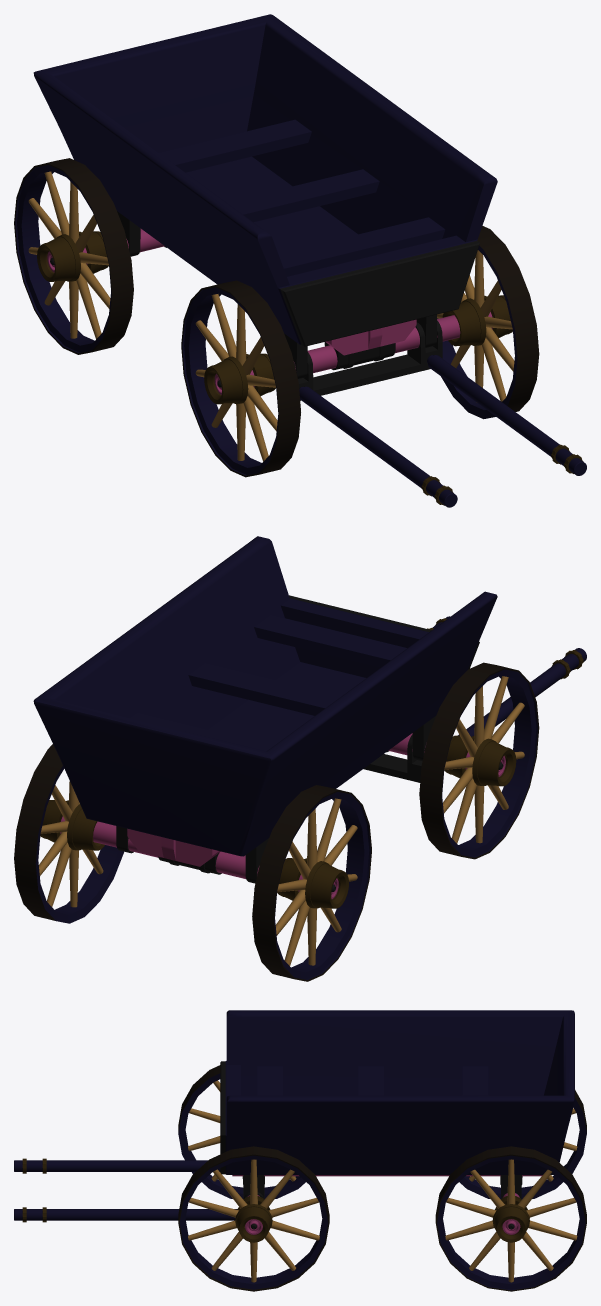
The model's file is Wagon.obj.
3 renders of one model, top to bottom at view 1: azimuth 30°, elevation 25°; view 2: azimuth 150°, elevation 25°; view 3: azimuth 270°, elevation 25°, orthographic. The views are drawn at different scales.
Parts seen in each view (by area): view 1: Cab Wagon, Wagon Back_Right_Wheel Wheels, Wagon Wheels Front_Right_Wheel, Wagon Wheels Front_Left_Wheel, Wagon Handles, Wagon Front_Axel_Hub Axels, Wagon Axels Front_Axel; view 2: Cab Wagon, Wagon Wheels Front_Right_Wheel, Wagon Back_Right_Wheel Wheels, Wagon Wheels Back_Left_Wheel, Wagon Handles, Wagon Axels Back_Axel, Wagon Axels Back_Axel_Hub; view 3: Cab Wagon, Wagon Wheels Back_Left_Wheel, Wagon Wheels Front_Left_Wheel, Wagon Handles, Wagon Wheels Front_Right_Wheel, Wagon Back_Right_Wheel Wheels.
Part boxes in pixels (<box>): Cab Wagon: <box>33,14,497,355</box>; Wagon Back_Right_Wheel Wheels: <box>14,158,133,354</box>; Wagon Wheels Front_Right_Wheel: <box>181,280,300,477</box>; Wagon Wheels Front_Left_Wheel: <box>437,226,539,419</box>; Wagon Handles: <box>294,320,586,507</box>; Wagon Front_Axel_Hub Axels: <box>284,314,436,378</box>; Wagon Axels Front_Axel: <box>214,312,492,394</box>; Cab Wagon: <box>33,536,497,866</box>; Wagon Wheels Front_Right_Wheel: <box>419,662,539,859</box>; Wagon Back_Right_Wheel Wheels: <box>252,785,371,981</box>; Wagon Wheels Back_Left_Wheel: <box>14,744,123,923</box>; Wagon Handles: <box>363,616,586,782</box>; Wagon Axels Back_Axel: <box>60,816,338,899</box>; Wagon Axels Back_Axel_Hub: <box>116,826,268,883</box>; Cab Wagon: <box>220,1010,574,1176</box>; Wagon Wheels Back_Left_Wheel: <box>435,1146,586,1291</box>; Wagon Wheels Front_Left_Wheel: <box>178,1146,329,1291</box>; Wagon Handles: <box>14,1158,264,1222</box>; Wagon Wheels Front_Right_Wheel: <box>178,1065,305,1198</box>; Wagon Back_Right_Wheel Wheels: <box>459,1090,586,1199</box>.
Bounding box in the file's own units: 17.54 × 14.01 × 38.57.
